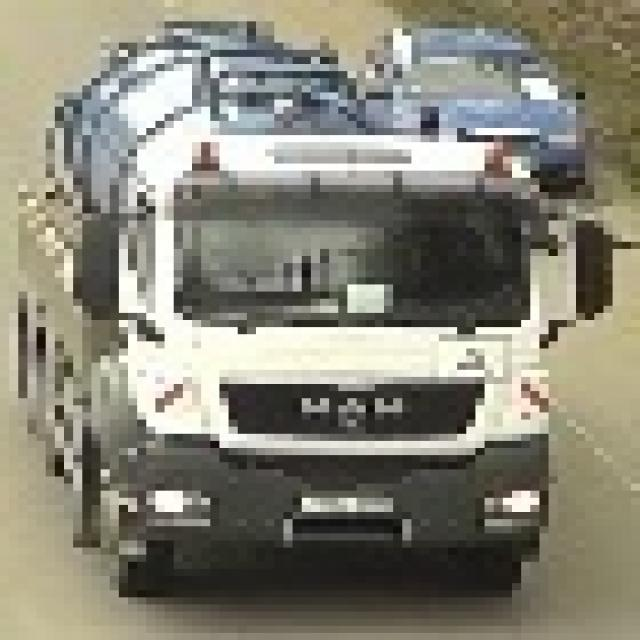bicycle: (0, 7, 603, 590)
